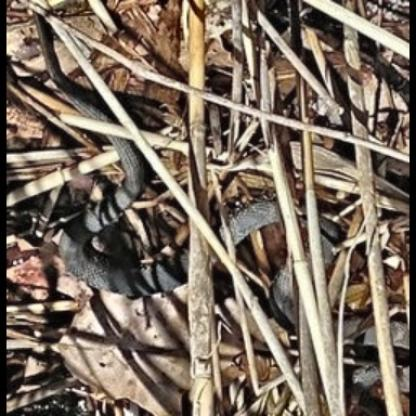Snake: (37, 1, 344, 300)
